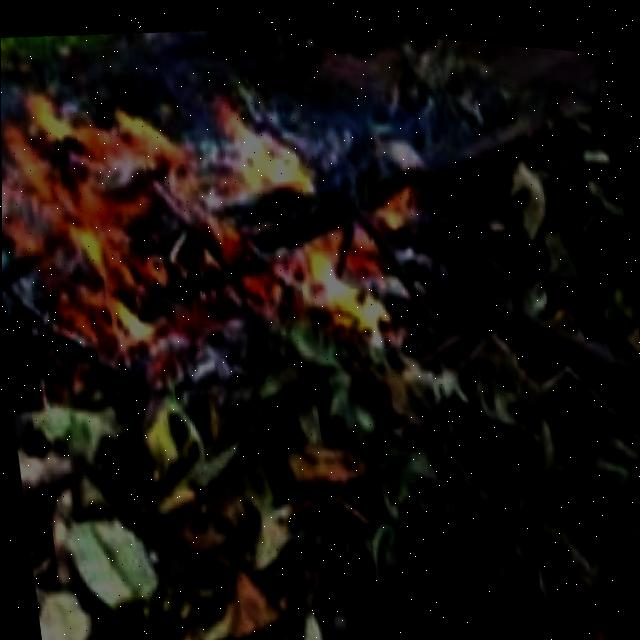Fire: (0, 48, 396, 352)
